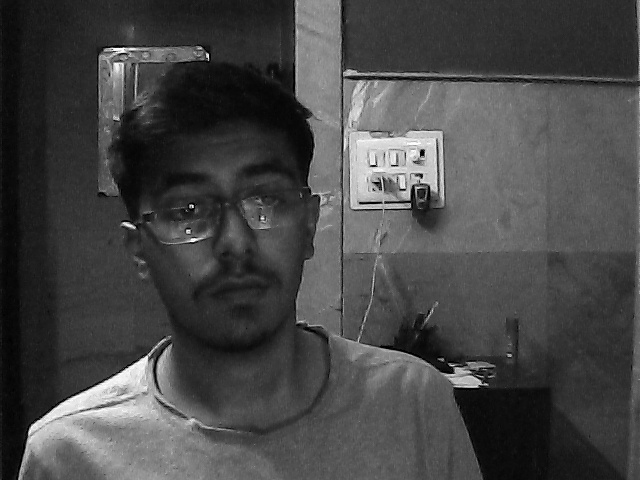nomask: (134, 121, 323, 345)
